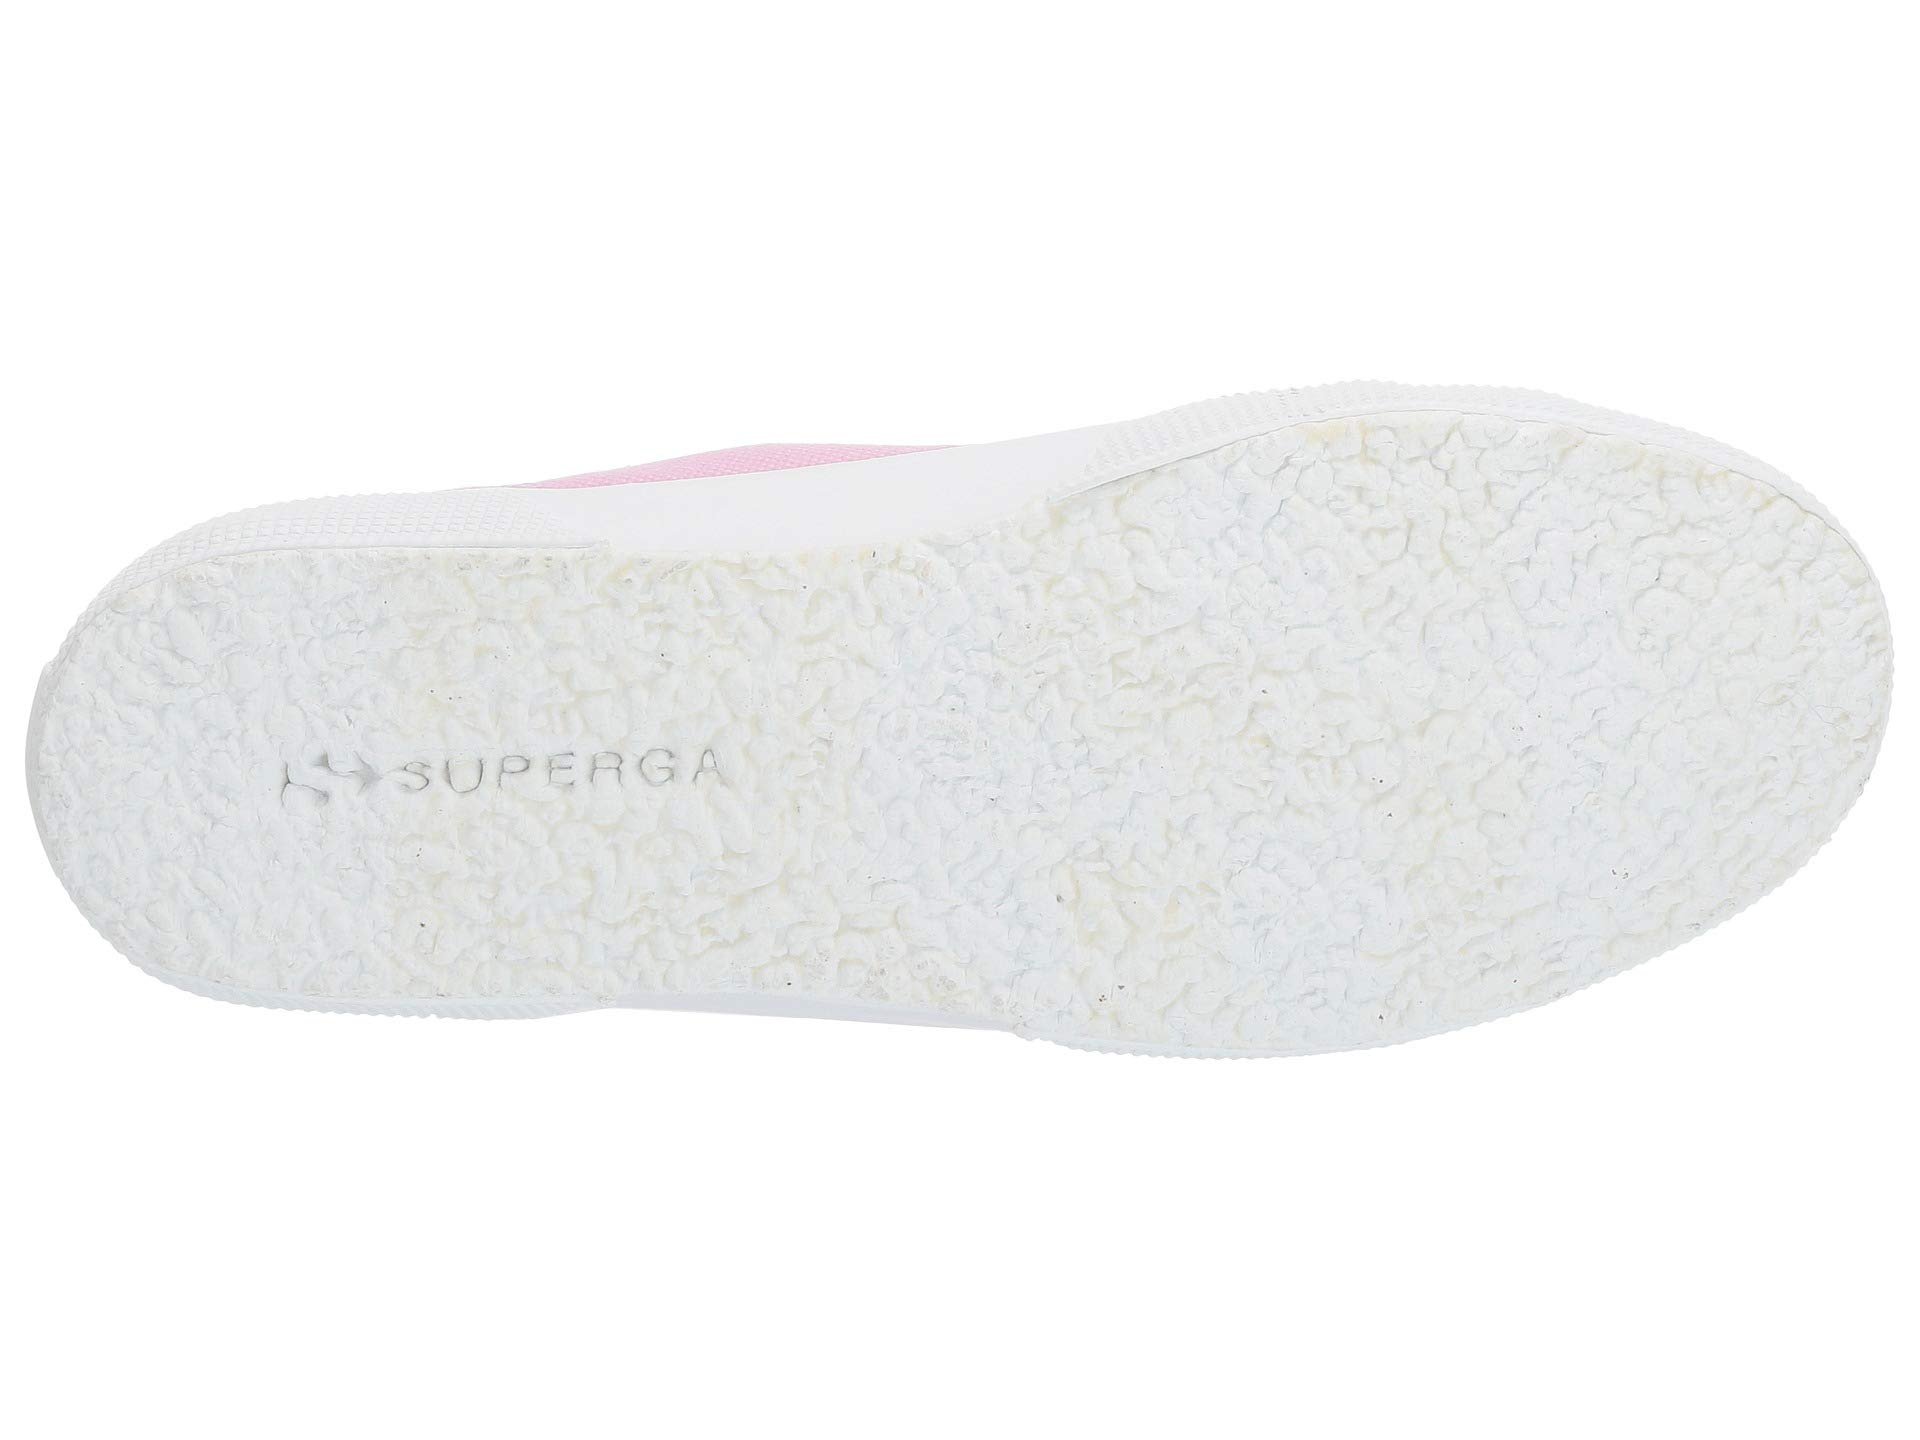other: (252, 591, 751, 1001), (875, 616, 1246, 998)
text: (252, 591, 751, 1001)
